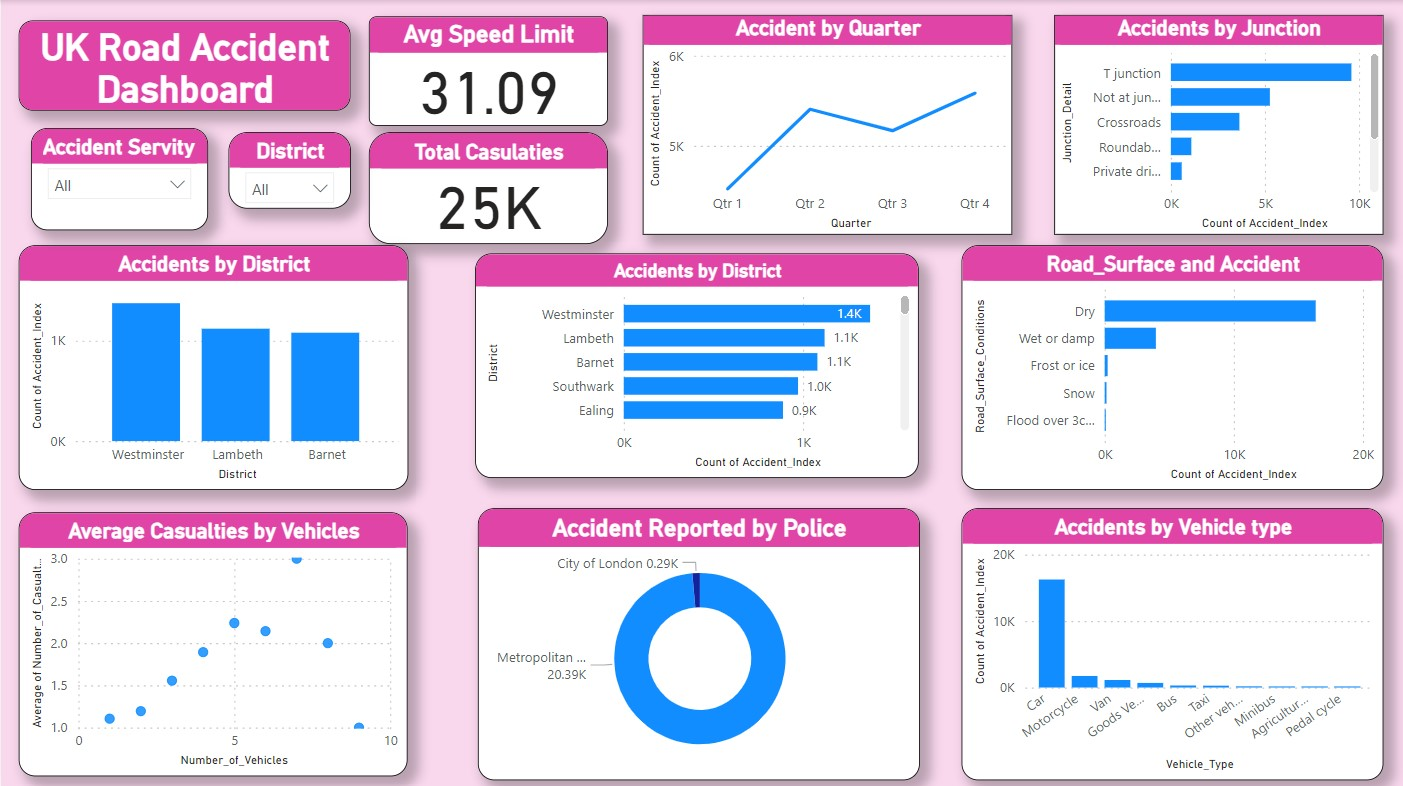

Layout of this report page (visuals, bound fields, positions):
{"tool":"powerbi","page":{"name":"Page 1","canvas":[1280,720],"ordinal":0},"visuals":[{"type":"card","title":"Average Speed Limit","fields":{"Values":["Avg(Accident_details.Speed_limit)"]},"box":[323.3,14,217.4,102.3],"z":0},{"type":"textbox","title":"UK Road Accident Dashboard","box":[16.7,19.2,302.6,82.1],"z":1000},{"type":"card","title":"Total Casulaties","fields":{"Values":["Sum(Accident_details.Number_of_Casualties)"]},"box":[336,120.9,195.3,102.3],"z":2000},{"type":"donutChart","title":"Accident Reported by Police","fields":{"Category":["Accident_details.Police_Force"],"Y":["CountNonNull(Accident_details.Accident_Index)"]},"box":[434.2,463,402.7,247.9],"z":3000},{"type":"columnChart","title":"Accidents by District","fields":{"Category":["Accident_details.District"],"Y":["CountNonNull(Accident_details.Accident_Index)"]},"box":[16.3,223.3,354.7,223.3],"z":4000},{"type":"columnChart","title":"Accidents by Vehicle type","fields":{"Category":["Accident_details.Vehicle_Type"],"Y":["CountNonNull(Accident_details.Accident_Index)"]},"box":[875.3,463,384.9,247.9],"z":5000},{"type":"scatterChart","title":"Average Casualties by Vehicles","fields":{"X":["Accident_details.Number_of_Vehicles"],"Y":["Accident_details.Number_of_Casualties"]},"box":[16.3,467.4,354.7,240.7],"z":6000},{"type":"lineChart","title":"Accident by Quarter","fields":{"Category":["Accident_details.Accident Date.Variation.Date Hierarchy.Year","Accident_details.Accident Date.Variation.Date Hierarchy.Quarter","Accident_details.Accident Date.Variation.Date Hierarchy.Month","Accident_details.Accident Date.Variation.Date Hierarchy.Day"],"Y":["CountNonNull(Accident_details.Accident_Index)"]},"box":[584.9,13.7,337,200],"z":7000},{"type":"barChart","title":" Accidents by Junction","fields":{"Category":["Accident_details.Junction_Detail"],"Y":["CountNonNull(Accident_details.Accident_Index)"]},"box":[960.3,13.7,300,200],"z":8000},{"type":"barChart","title":" Accidents by District","fields":{"Category":["Accident_details.District"],"Y":["CountNonNull(Accident_details.Accident_Index)"]},"box":[432.6,231.4,404.7,204.7],"z":9000},{"type":"barChart","title":"Road_Surface and Accident","fields":{"Category":["Accident_details.Road_Surface_Conditions"],"Y":["CountNonNull(Accident_details.Accident_Index)"]},"box":[875.3,223.3,384.9,223.3],"z":10000},{"type":"slicer","title":"Accident Servity","fields":{"Values":["Accident_details.Accident_Severity"]},"box":[27.9,116.3,161.6,93],"z":11000},{"type":"slicer","title":"District","fields":{"Values":["Accident_details.District"]},"box":[207,120.9,111.6,69.8],"z":12000}]}

Visuals, with their boxes in screenshot pixels (x1, y1, x2, y2), scaled from the page's 1280x720 canvas onto the 1403x786 screenshot:
"Average Speed Limit" card: {"x1": 354, "y1": 15, "x2": 593, "y2": 127}
"UK Road Accident Dashboard" textbox: {"x1": 18, "y1": 21, "x2": 350, "y2": 111}
"Total Casulaties" card: {"x1": 368, "y1": 132, "x2": 582, "y2": 244}
"Accident Reported by Police" donutChart: {"x1": 476, "y1": 505, "x2": 917, "y2": 776}
"Accidents by District" columnChart: {"x1": 18, "y1": 244, "x2": 407, "y2": 488}
"Accidents by Vehicle type" columnChart: {"x1": 959, "y1": 505, "x2": 1381, "y2": 776}
"Average Casualties by Vehicles" scatterChart: {"x1": 18, "y1": 510, "x2": 407, "y2": 773}
"Accident by Quarter" lineChart: {"x1": 641, "y1": 15, "x2": 1010, "y2": 233}
" Accidents by Junction" barChart: {"x1": 1053, "y1": 15, "x2": 1381, "y2": 233}
" Accidents by District" barChart: {"x1": 474, "y1": 253, "x2": 918, "y2": 476}
"Road_Surface and Accident" barChart: {"x1": 959, "y1": 244, "x2": 1381, "y2": 488}
"Accident Servity" slicer: {"x1": 31, "y1": 127, "x2": 208, "y2": 228}
"District" slicer: {"x1": 227, "y1": 132, "x2": 349, "y2": 208}
